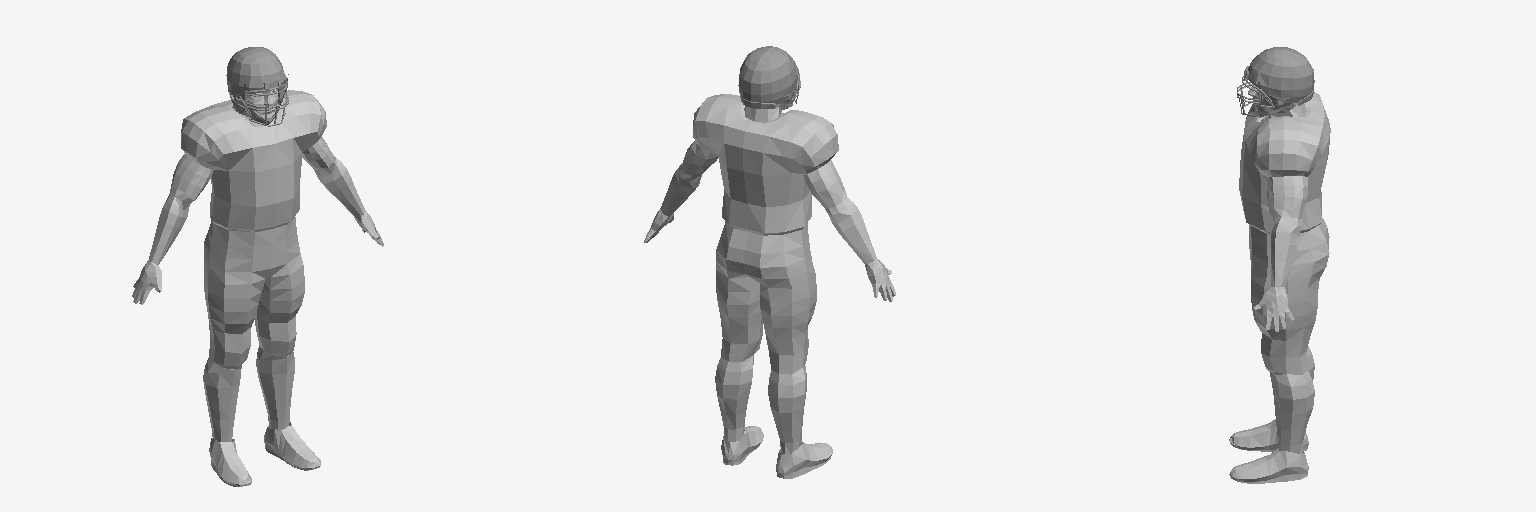
Rendered from Player-hands-down.obj.
3 renders of one model, left to right at view 1: azimuth 30°, elevation 25°; view 2: azimuth 150°, elevation 25°; view 3: azimuth 270°, elevation 25°, orthographic.
Parts seen in each view (by area): view 1: Mesh.032_Mesh.051; view 2: Mesh.032_Mesh.051; view 3: Mesh.032_Mesh.051.
Part boxes in pixels (bbox=[...]): Mesh.032_Mesh.051: bbox=[132, 47, 383, 486]; Mesh.032_Mesh.051: bbox=[644, 46, 895, 478]; Mesh.032_Mesh.051: bbox=[1229, 47, 1330, 483].
Bounding box in the file's own units: 1.33 × 2.13 × 0.4746.